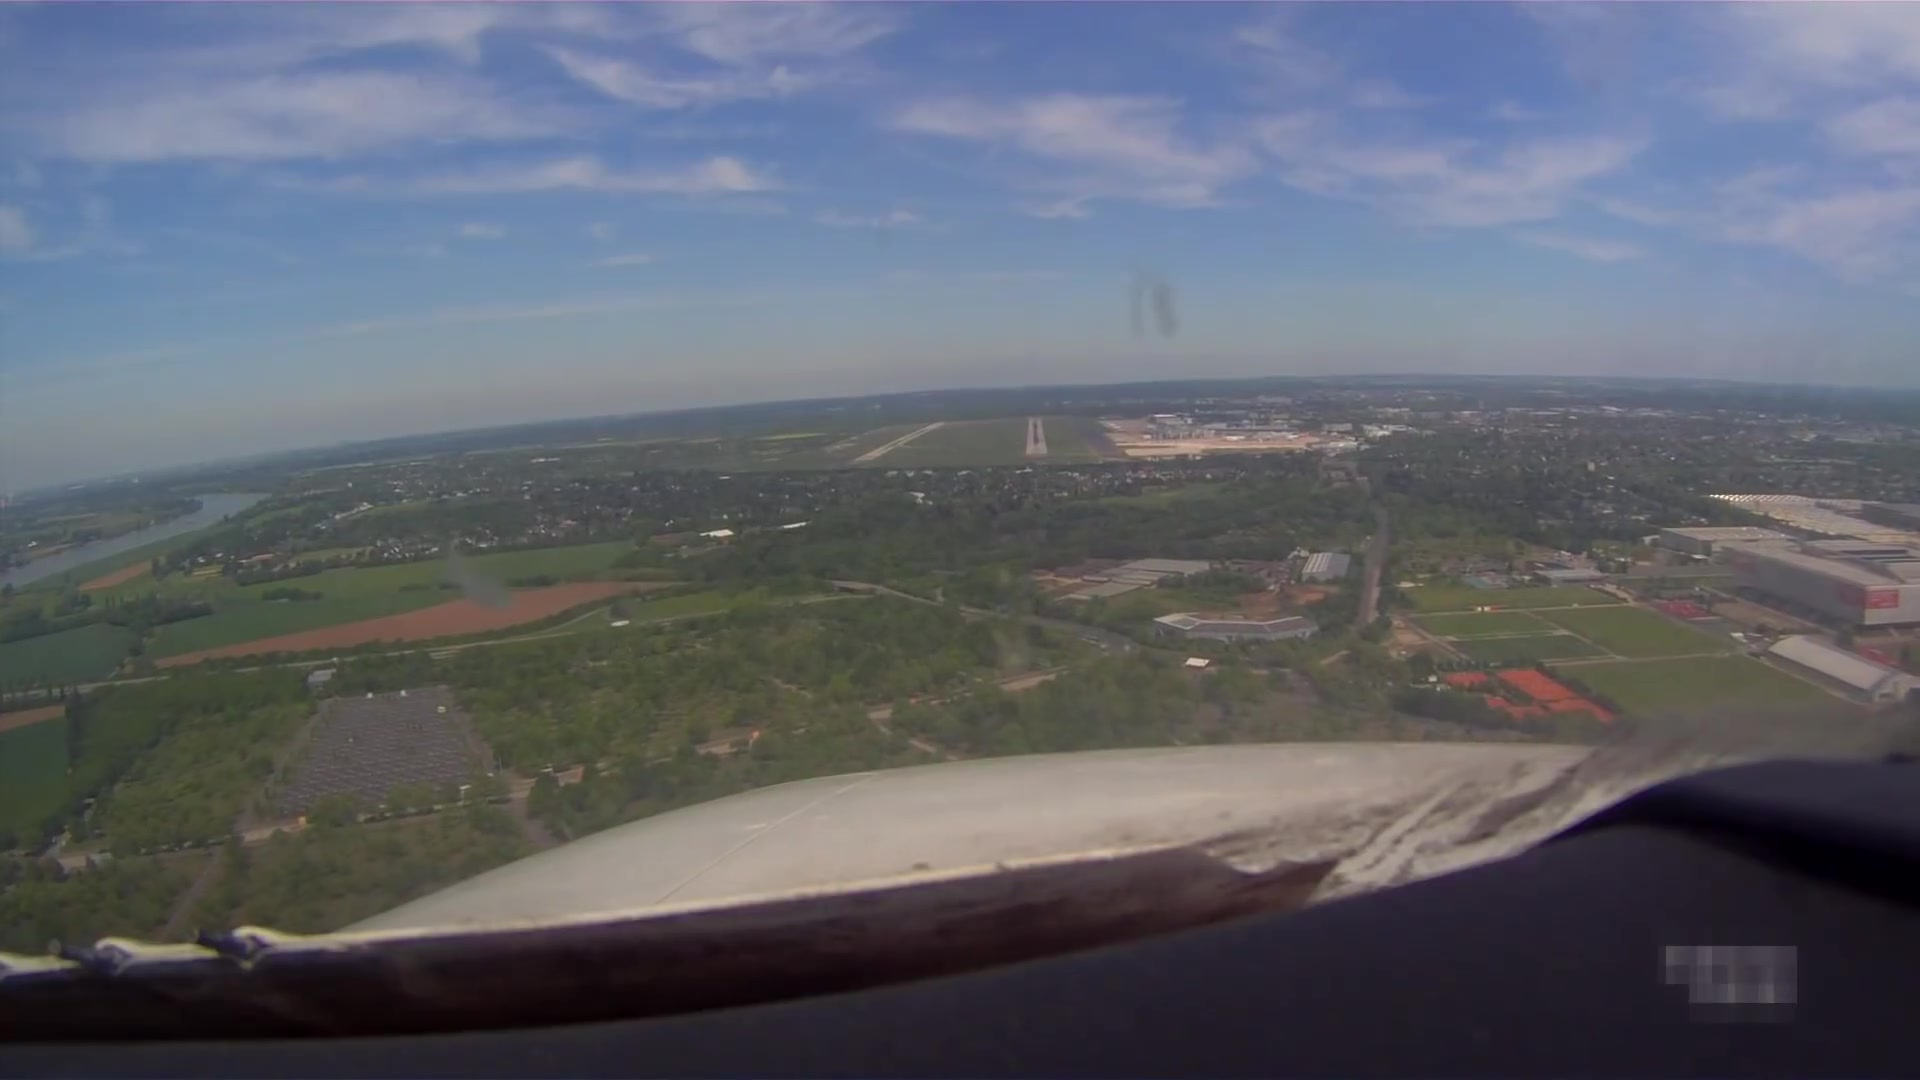runway: (855, 418, 944, 462), (1023, 418, 1048, 458)
